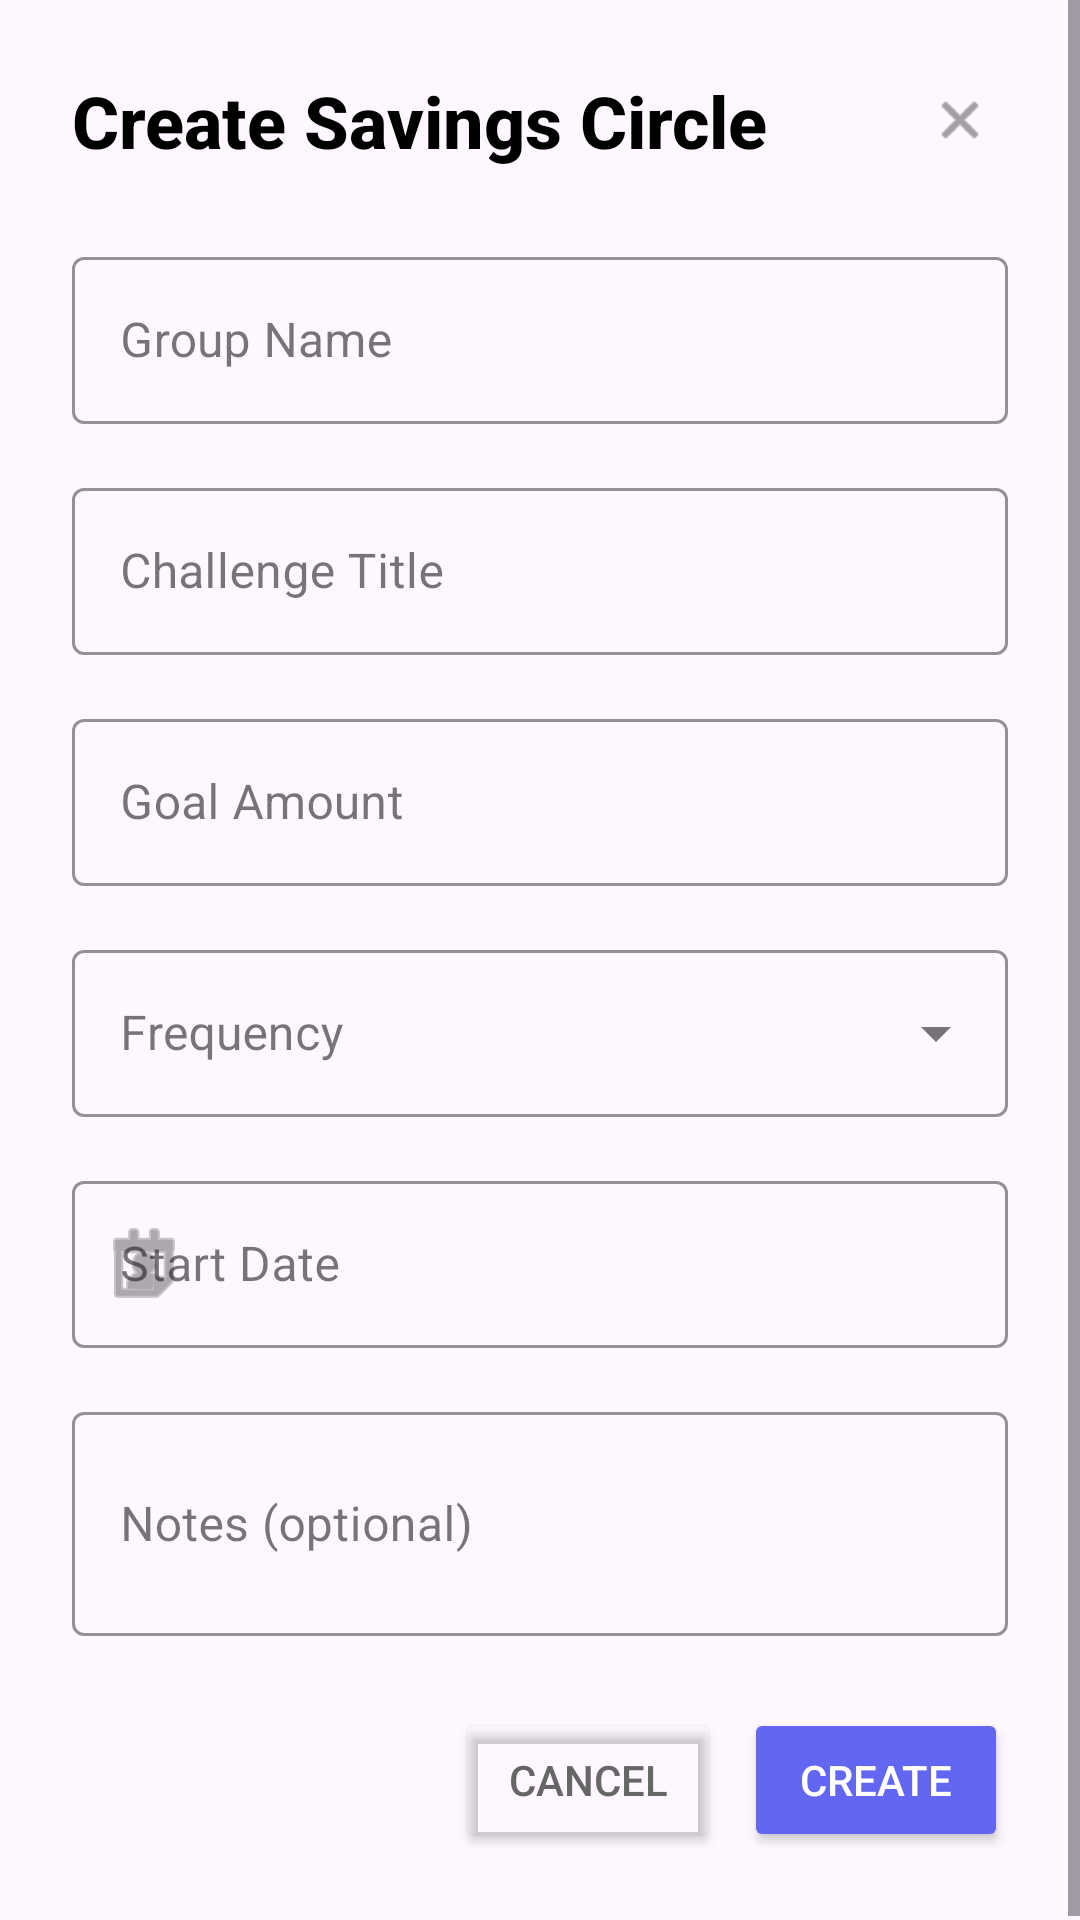

Named icons in this screenshot (1080w x 1920h) and their centers, [x,y]:
close clear cancel: [960,120]
